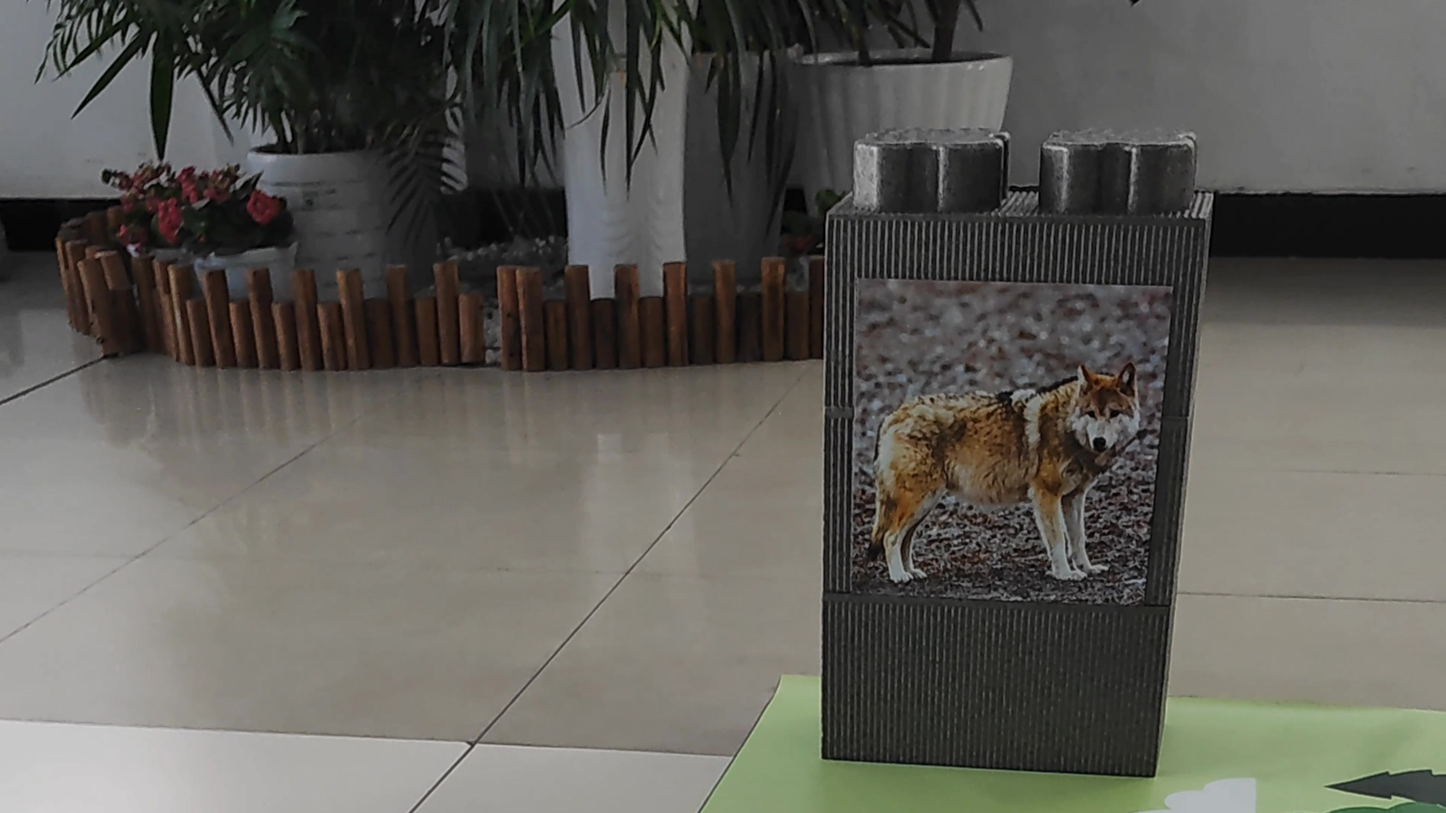wolf: (844, 329, 1155, 624)
